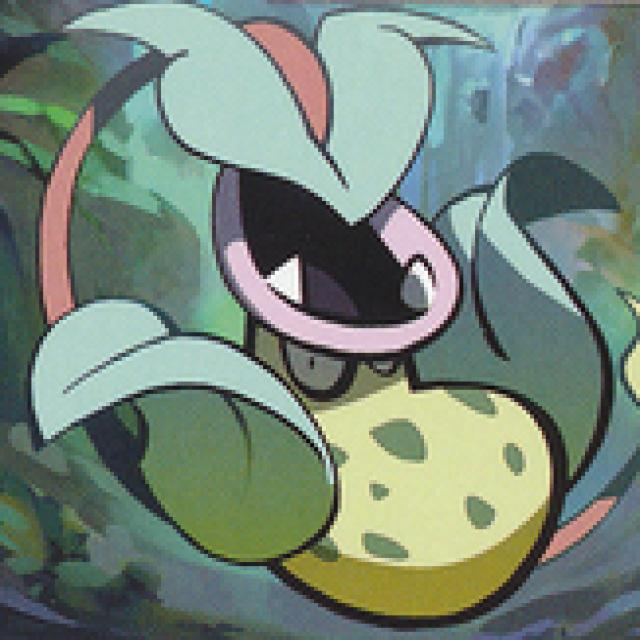Victreebel: (198, 21, 550, 626)
